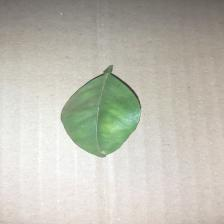greening: (57, 61, 149, 163)
